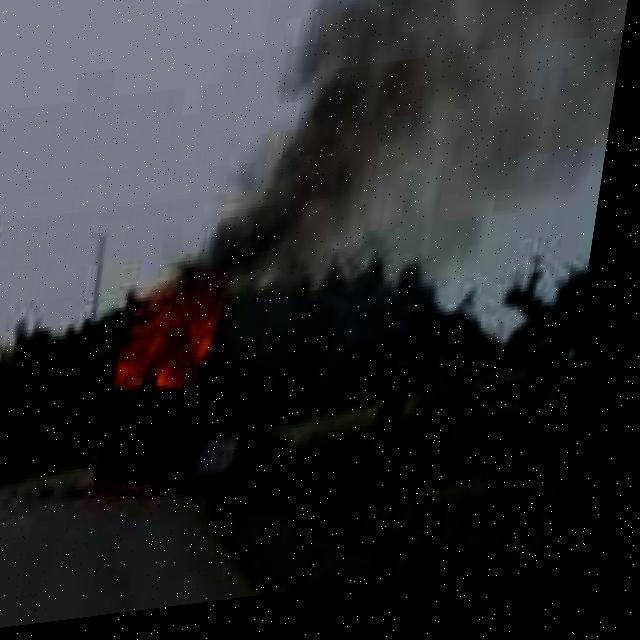Fire: (104, 279, 256, 420)
